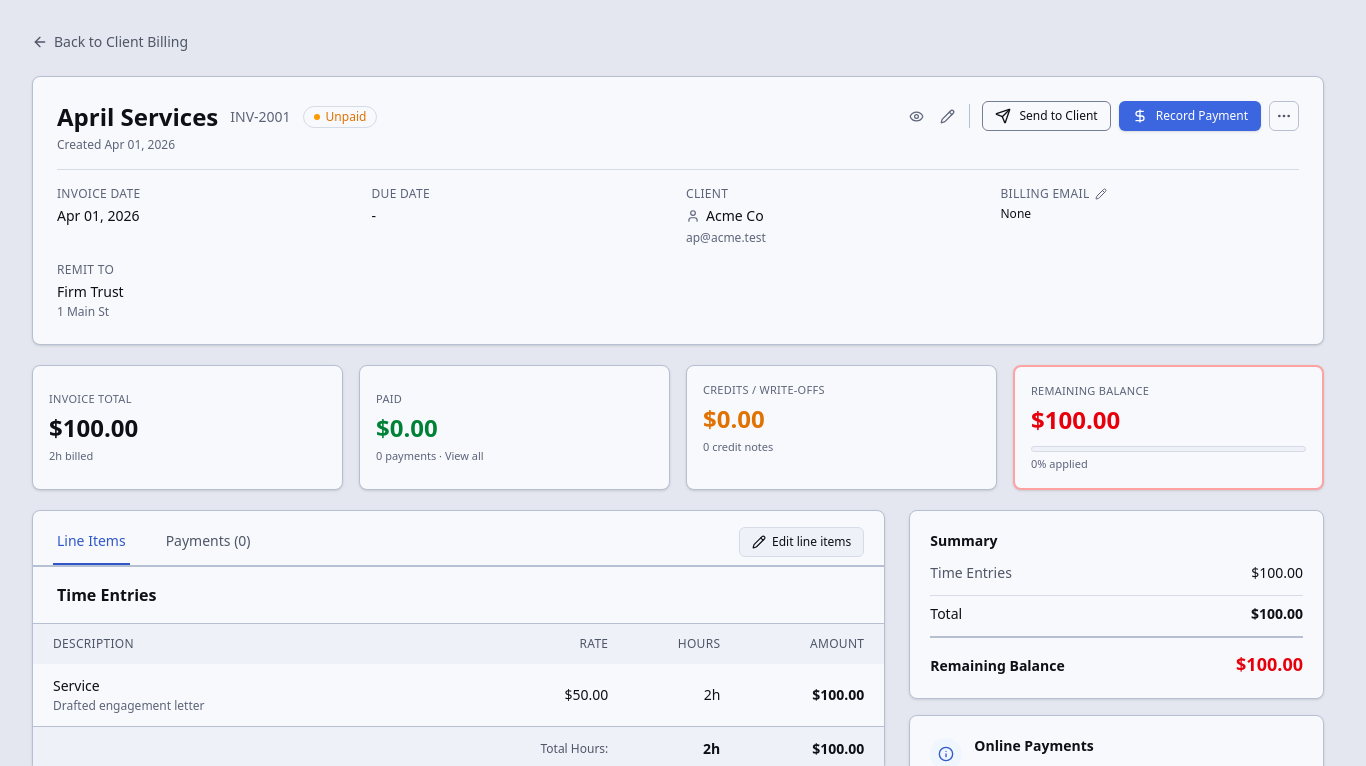
Test: an issued invoice › shows the frozen fields read-only
The width and height of the screenshot is (1366, 766).
Click the button named "Edit invoice details": (948, 116) x1=934 y1=102 x2=961 y2=130
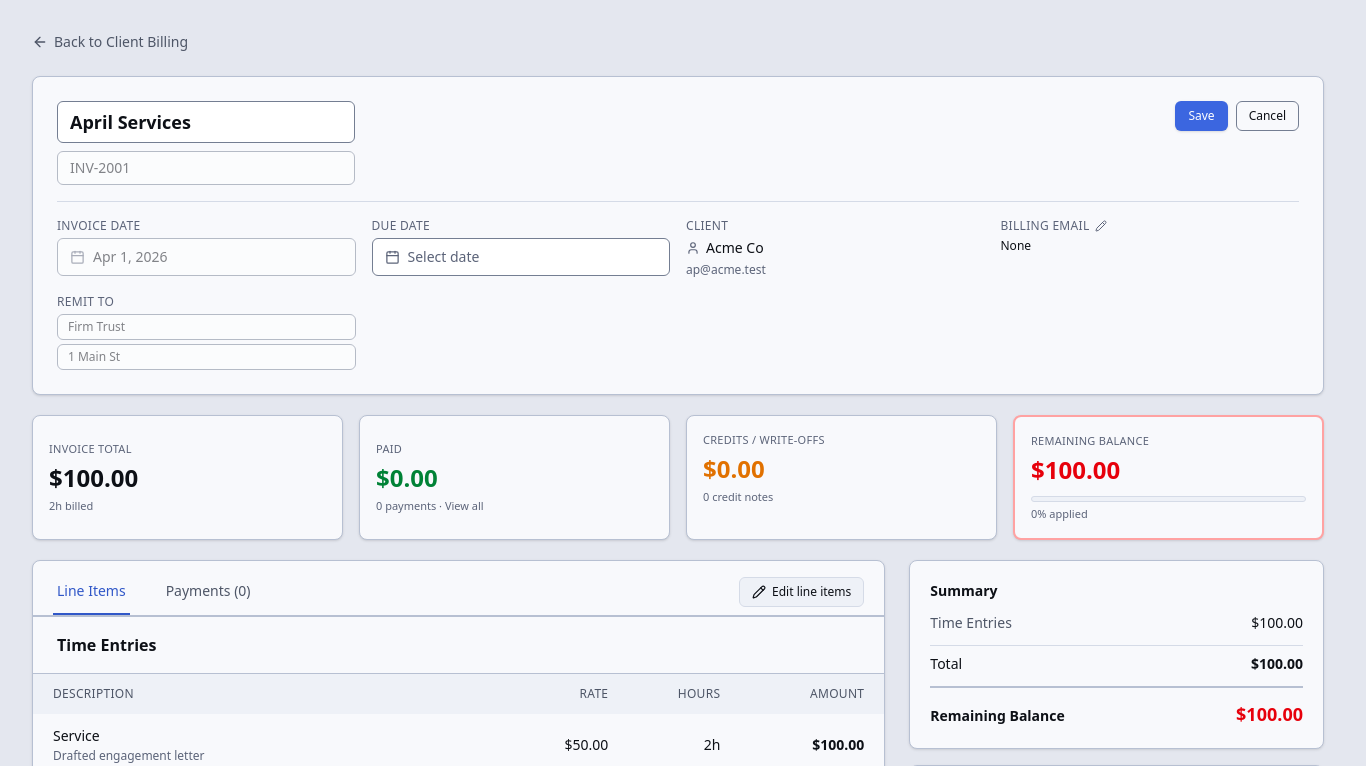
Expected: the 2nd field with placeholder "Invoice Number" is disabled, x1=57 y1=151 x2=355 y2=185
Expected: the 3rd field with placeholder "Remit To Name" is disabled, x1=57 y1=314 x2=356 y2=340
Expected: the 4th field with placeholder "Address (optional)" is disabled, x1=57 y1=344 x2=356 y2=370
